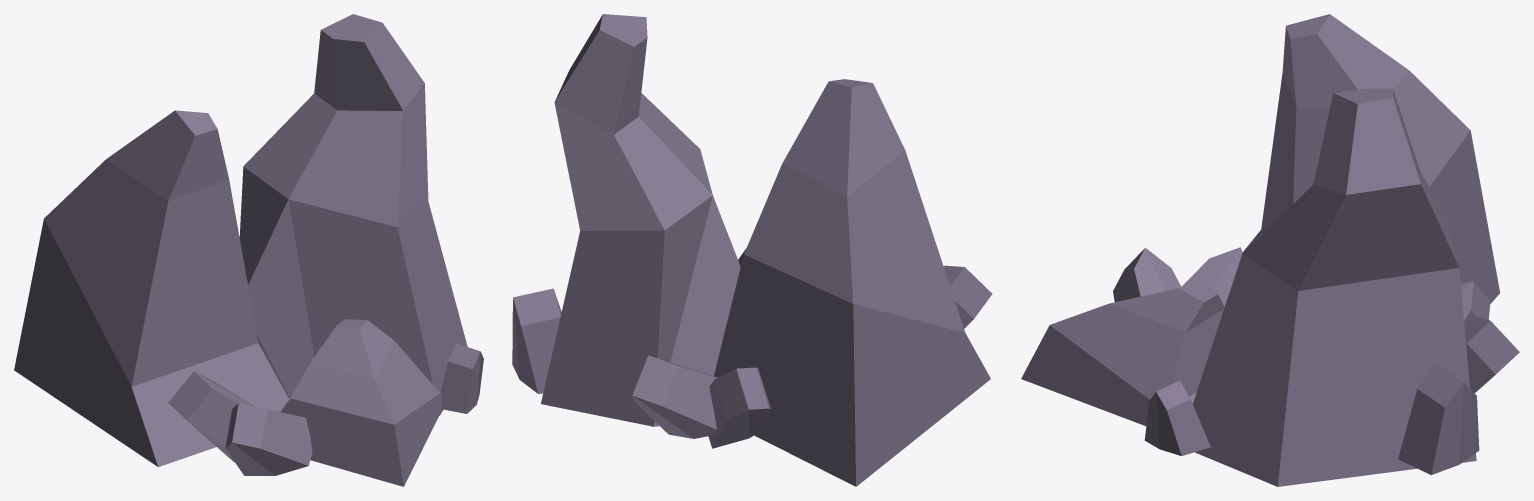
The model's file is Rock_02.glb.
3 renders of one model, left to right at view 1: azimuth 30°, elevation 25°; view 2: azimuth 150°, elevation 25°; view 3: azimuth 270°, elevation 25°, orthographic. The views are drawn at different scales.
Parts seen in each view (by area): view 1: Rock_Type3_02_mesh; view 2: Rock_Type3_02_mesh; view 3: Rock_Type3_02_mesh.
Boxes of the visible parts, <box> form: Rock_Type3_02_mesh: <box>14,14,483,486</box>; Rock_Type3_02_mesh: <box>512,14,992,486</box>; Rock_Type3_02_mesh: <box>1021,14,1519,486</box>.
Size of the model in its own units: 12.43 by 11.36 by 13.89.
